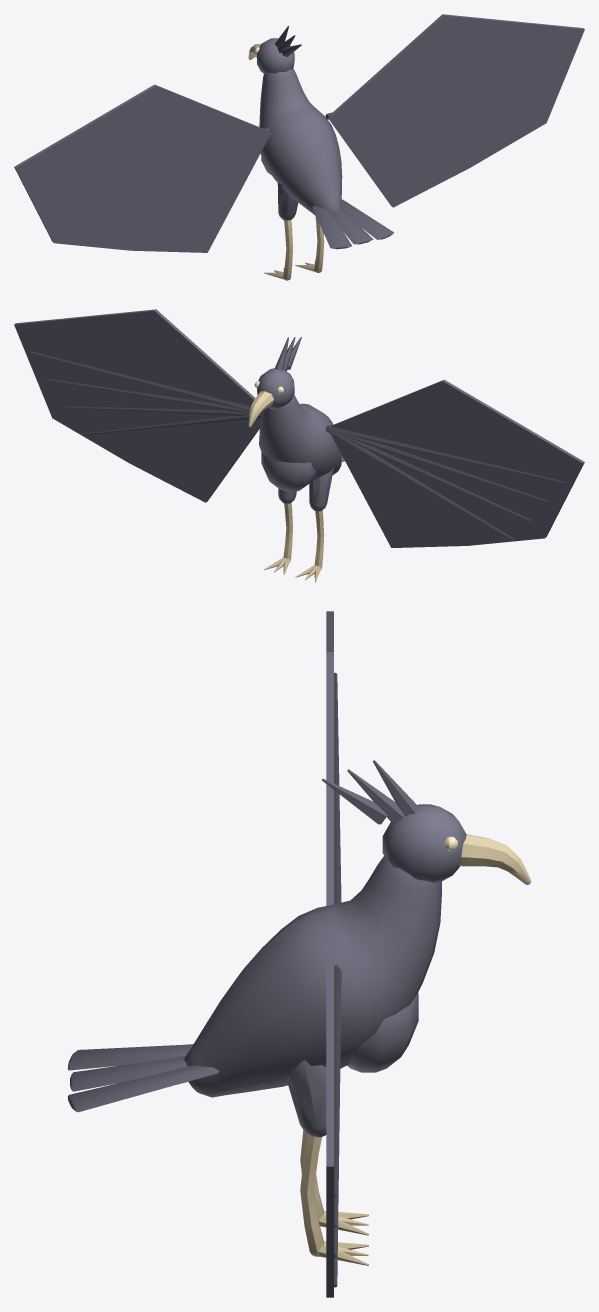
File: tempest_roc.gltf
3 views of the same model, one above another, from view 1: azimuth 30°, elevation 25°; view 2: azimuth 150°, elevation 25°; view 3: azimuth 270°, elevation 25° (orthographic). The views are drawn at different scales.
Parts seen in each view (by area): view 1: FlapR, FlapL, Body, SwingA, SwingB; view 2: FlapL, FlapR, Body, SwingA, SwingB; view 3: Body, FlapR, SwingB, FlapL, SwingA.
Part boxes in pixels (x1,y1,x2,y2): FlapR: (325,14,584,207); FlapL: (14,84,271,252); Body: (248,26,394,249); SwingA: (264,183,298,280); SwingB: (295,216,324,272); FlapL: (325,379,584,547); FlapR: (14,309,261,502); Body: (248,337,344,491); SwingA: (295,467,333,582); SwingB: (264,488,296,574); Body: (67,760,531,1112); FlapR: (326,933,341,1297); SwingB: (286,1060,368,1265); FlapL: (326,611,341,905); SwingA: (300,1130,368,1235).
Size of the model in its own units: 5.12 by 2.07 by 1.81.
